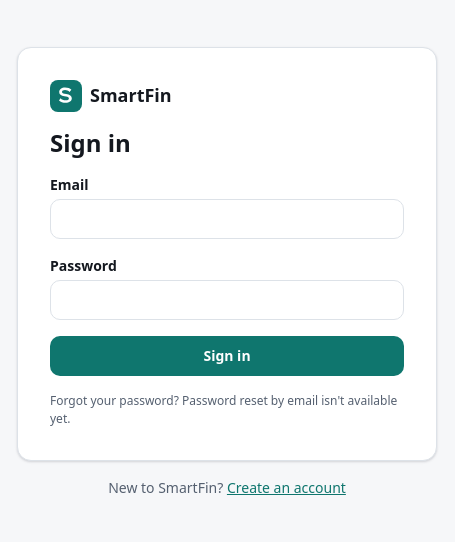
Test case: authentication › shows the API message when sign-in fails
In the field labelled "Email": x=227, y=218 [50, 198, 404, 238], type "asha@example.com"
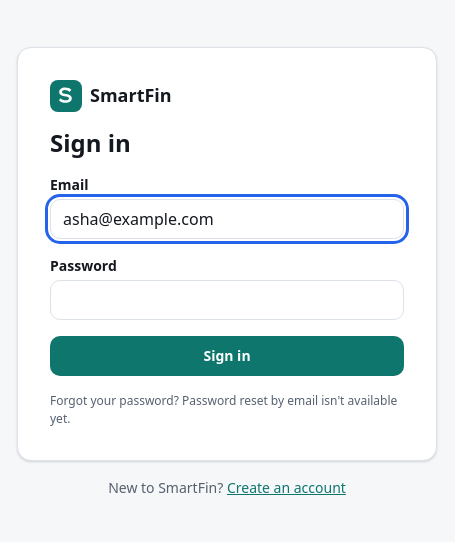
In the password field labelled "Password": x=227, y=300 [50, 280, 404, 320], type "wrong"
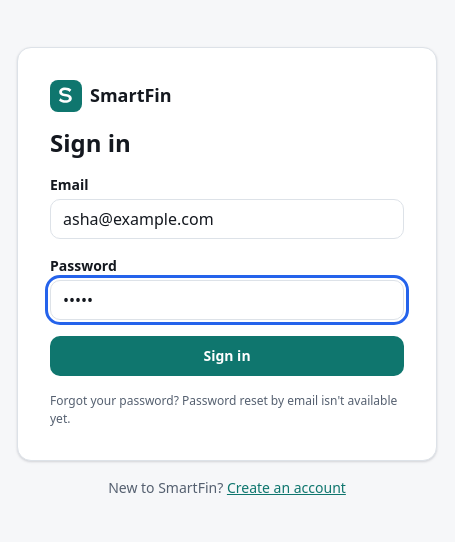
Click the button "Sign in": x=227, y=356 [50, 336, 404, 376]
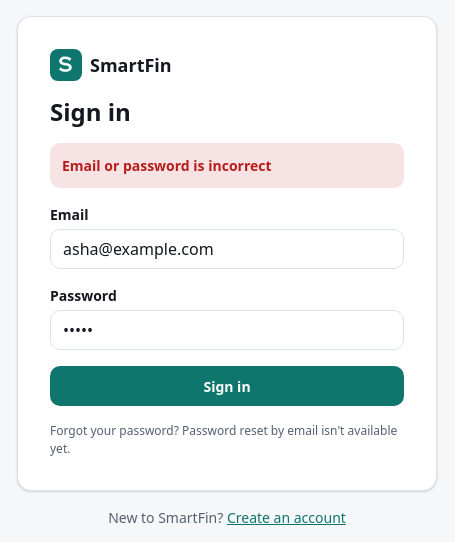
Check: the message reads "Email or password is incorrect", box [62, 156, 272, 175]
